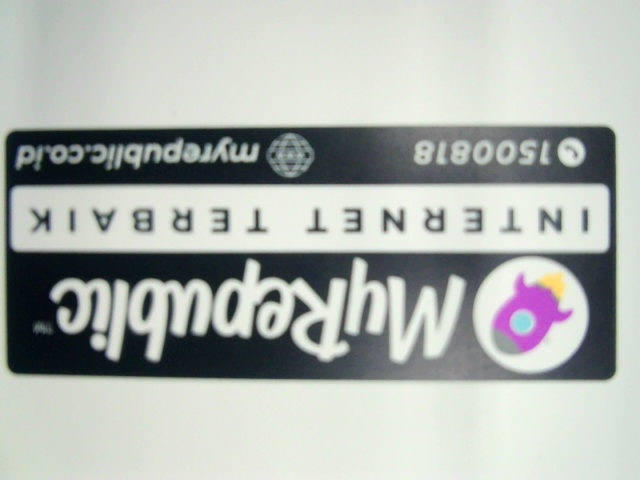BD_MyRepublic: (4, 119, 619, 385)
